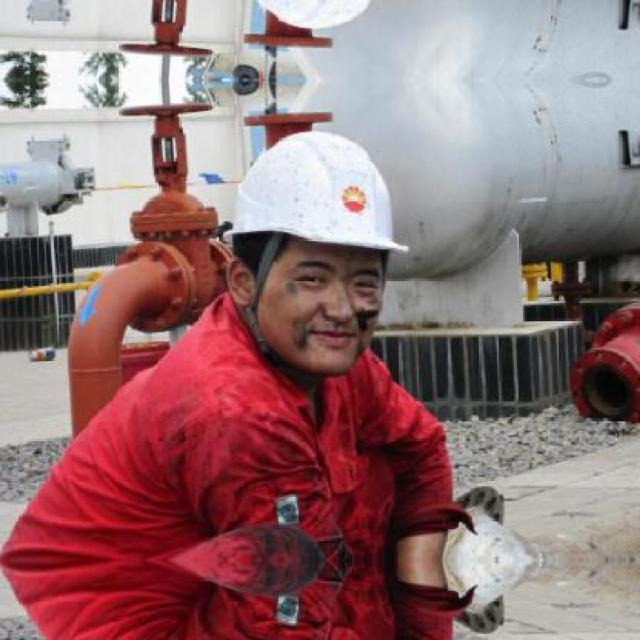safetyhelmet: (222, 128, 408, 321)
